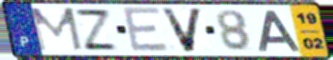8: (214, 9, 253, 52)
A: (257, 9, 303, 52)
E: (120, 6, 171, 54)
M: (28, 6, 86, 53)
V: (158, 6, 206, 54)
Z: (72, 8, 121, 52)
